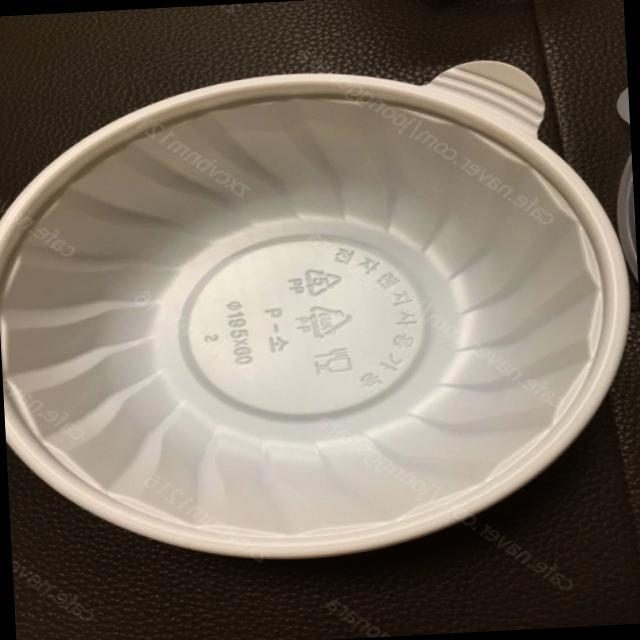bottle: (0, 31, 640, 574)
